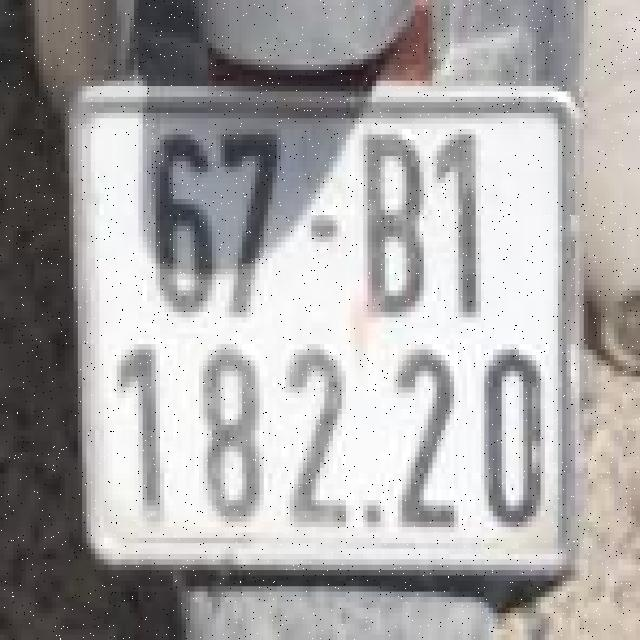0: (478, 331, 547, 535)
1: (108, 315, 177, 524), (432, 116, 493, 330)
2: (391, 328, 465, 543), (276, 342, 354, 530)
6: (145, 129, 218, 323)
7: (214, 105, 283, 320)
8: (195, 320, 272, 530)
B: (352, 121, 430, 320)
